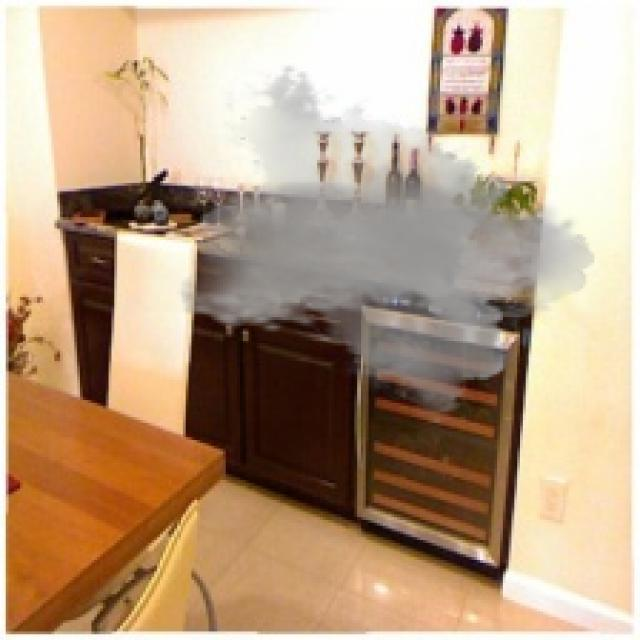Smoke: (177, 63, 594, 426)
